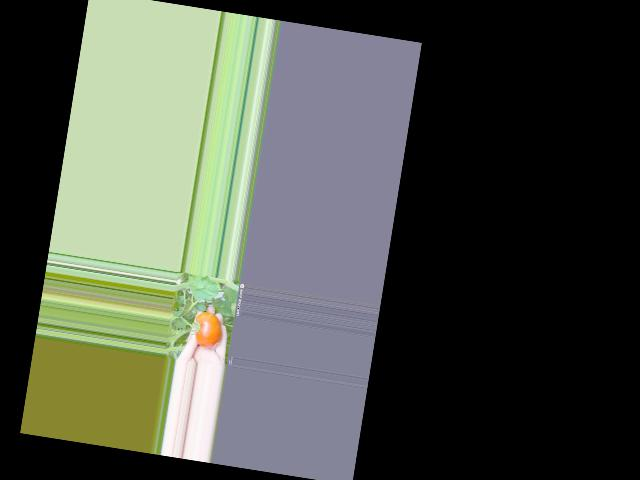tomato: (192, 311, 224, 350)
